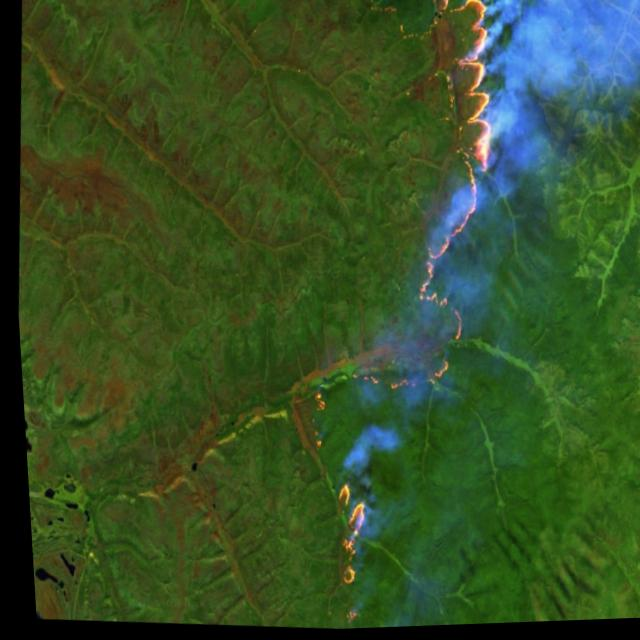fire: (328, 0, 521, 411), (308, 459, 376, 601)
